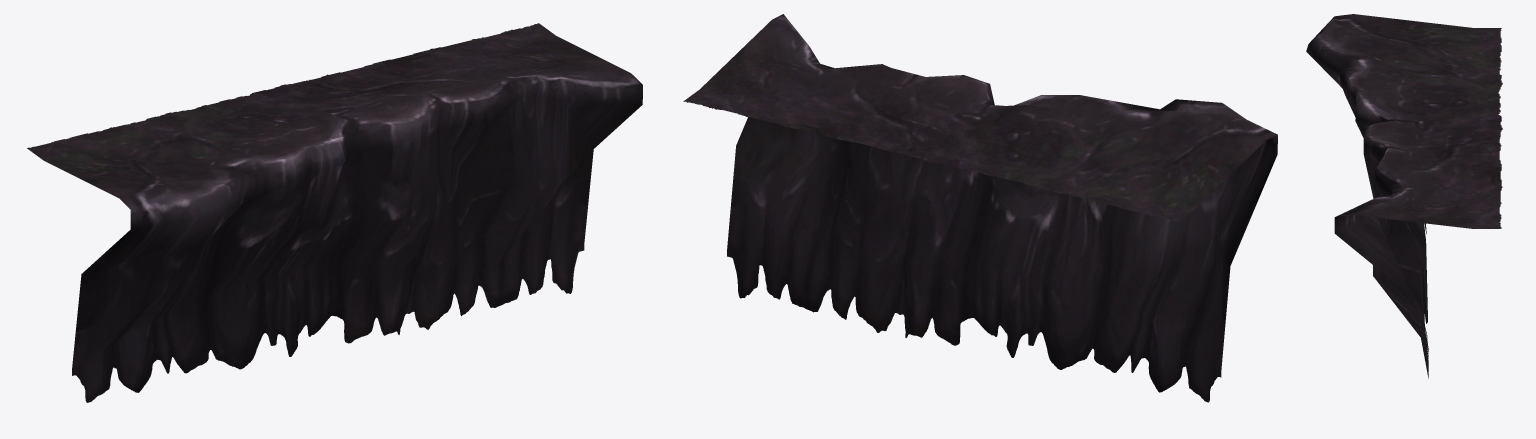
Rendered from cave_trim_straight_02.fbx.
The picture shows the model from 3 angles, left to right: view 1: azimuth 30°, elevation 25°; view 2: azimuth 150°, elevation 25°; view 3: azimuth 270°, elevation 25°; orthographic projection. The views are drawn at different scales.
Parts seen in each view (by area): view 1: cave_tileset/trim01_mat; view 2: cave_tileset/trim01_mat; view 3: cave_tileset/trim01_mat.
Part boxes in pixels (<box>): cave_tileset/trim01_mat: <box>27,23,642,402</box>; cave_tileset/trim01_mat: <box>683,14,1277,402</box>; cave_tileset/trim01_mat: <box>1306,14,1502,378</box>.
Size of the model in its own units: 4 by 1.98 by 1.81.
